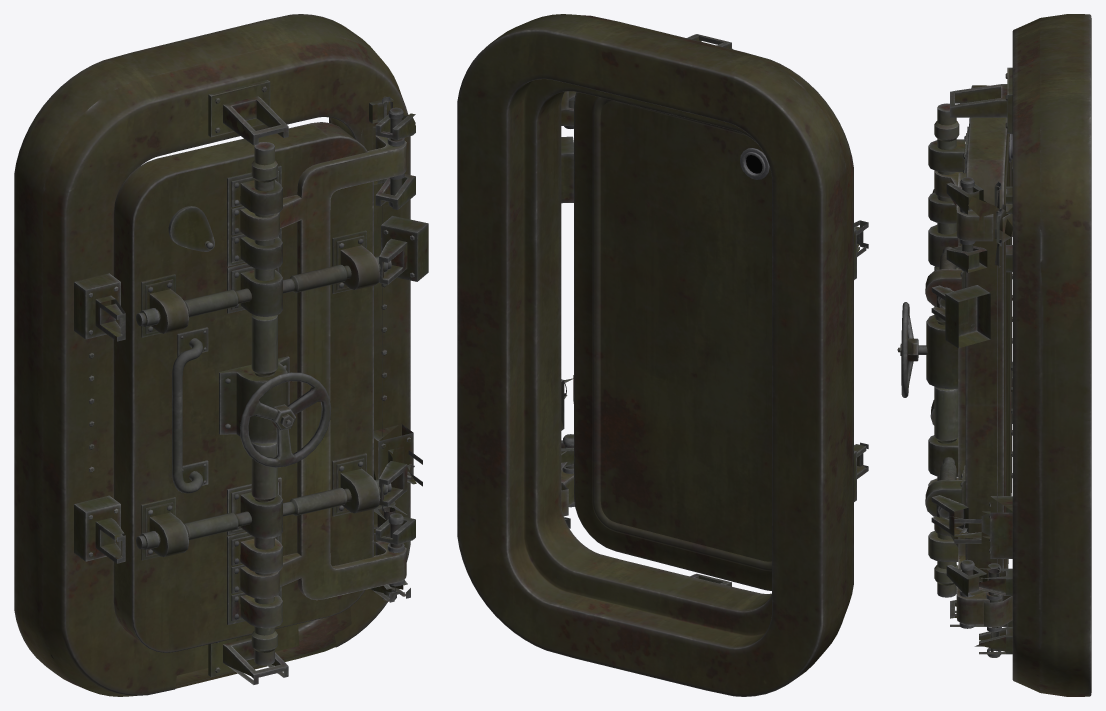
3 views of the same model, side by side, from view 1: azimuth 30°, elevation 25°; view 2: azimuth 150°, elevation 25°; view 3: azimuth 270°, elevation 25° (orthographic). The views are drawn at different scales.
Visible parts, largest first — view 1: Door.001, Door; view 2: Door, Door.001; view 3: Door, Door.001.
Boxes of the visible parts, box(x1,y1,x2,y2) form: Door.001: box(113, 107, 428, 665); Door: box(14, 14, 422, 696); Door: box(457, 14, 868, 696); Door.001: box(561, 48, 771, 590); Door: box(950, 14, 1091, 696); Door.001: box(897, 85, 1012, 628).
Bounding box in the file's own units: 16000 × 26000 × 7784.
